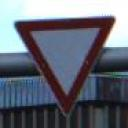preferencia: (11, 12, 117, 118)
